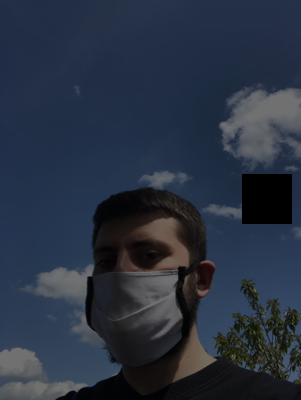with_mask: (85, 230, 188, 368)
